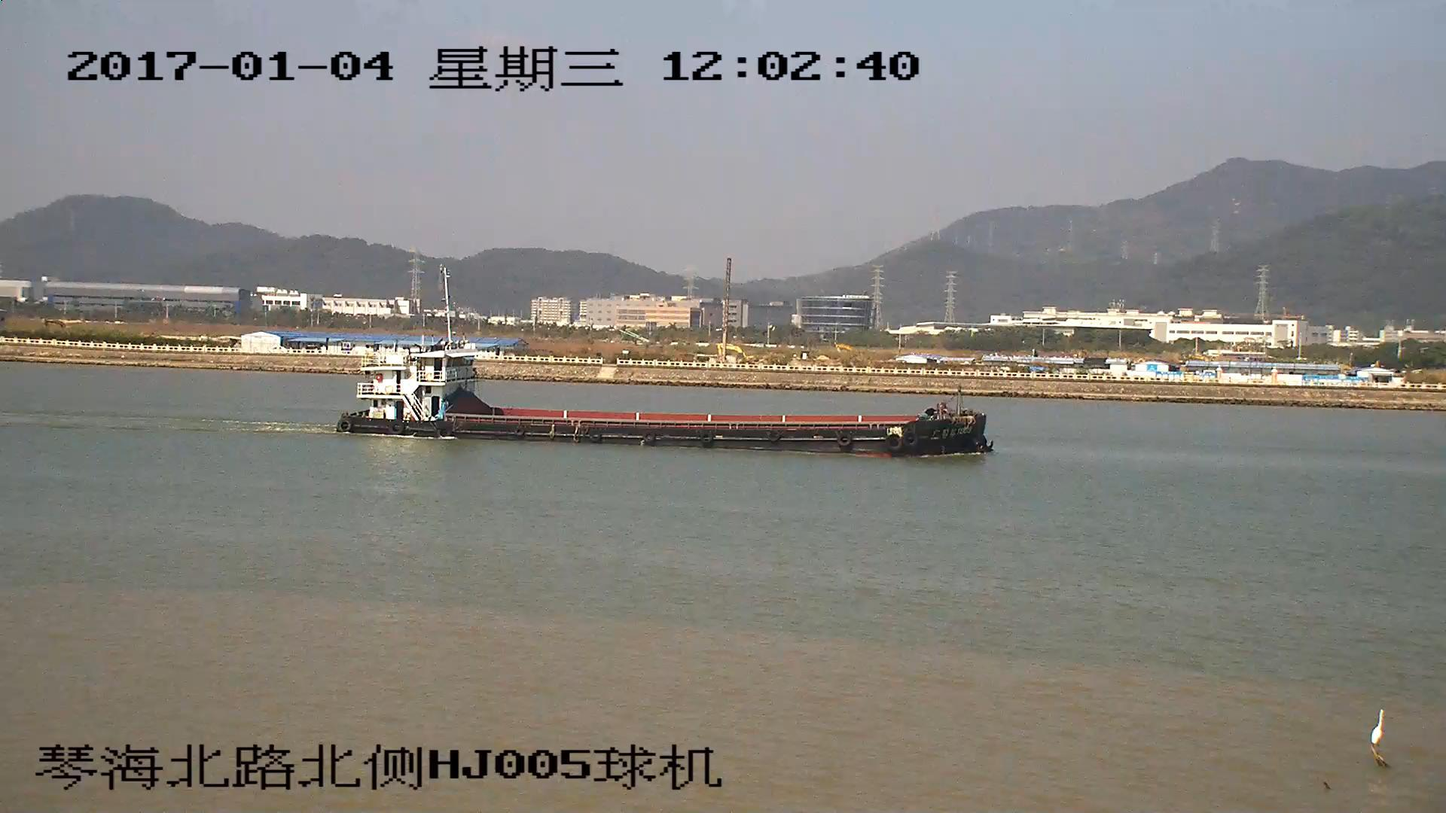general cargo ship: (336, 343, 993, 454)
